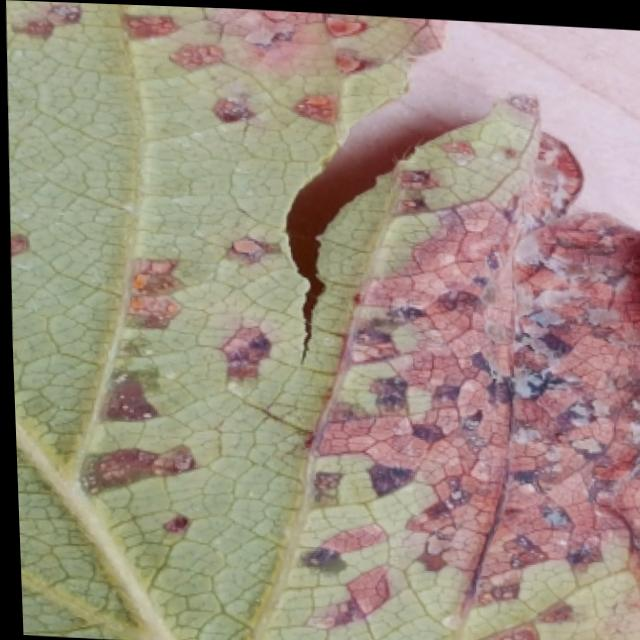Angular Leafspot: (6, 0, 640, 640)
